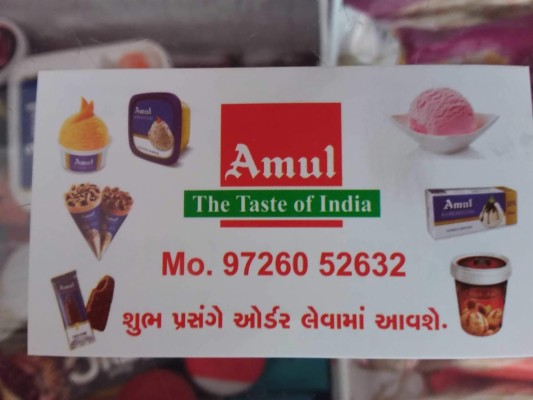Amul: (218, 141, 341, 187)
